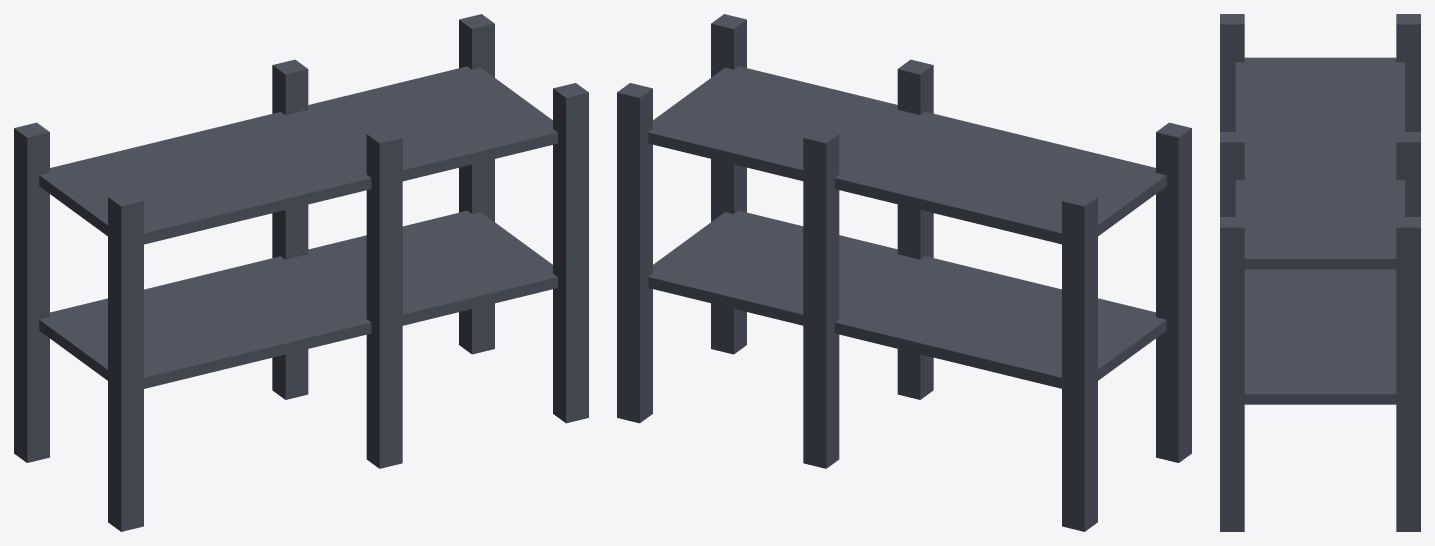
File: metal warehouse shelves.fbx
3 views of the same model, side by side, from view 1: azimuth 30°, elevation 25°; view 2: azimuth 150°, elevation 25°; view 3: azimuth 270°, elevation 25° (orthographic). The views are drawn at different scales.
Visible parts, largest first — view 1: Cube.030; view 2: Cube.030; view 3: Cube.030.
Part boxes in pixels (x1=…): Cube.030: x1=14, y1=14, x2=588, y2=531; Cube.030: x1=617, y1=14, x2=1191, y2=531; Cube.030: x1=1220, y1=14, x2=1420, y2=531.
Size of the model in its own units: 2281 by 1516 by 906.
